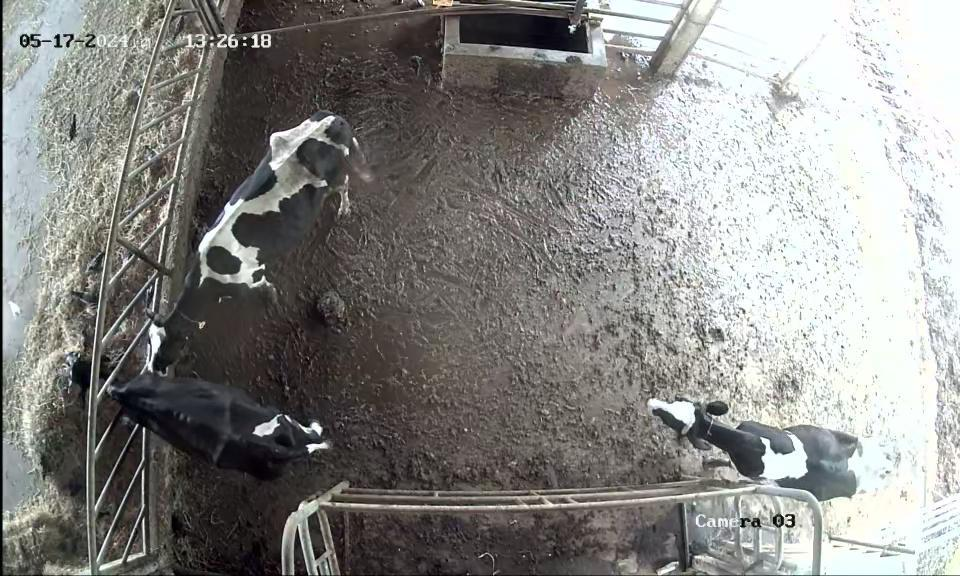eat: (47, 344, 152, 412)
stand: (143, 107, 390, 378), (625, 371, 894, 510)
